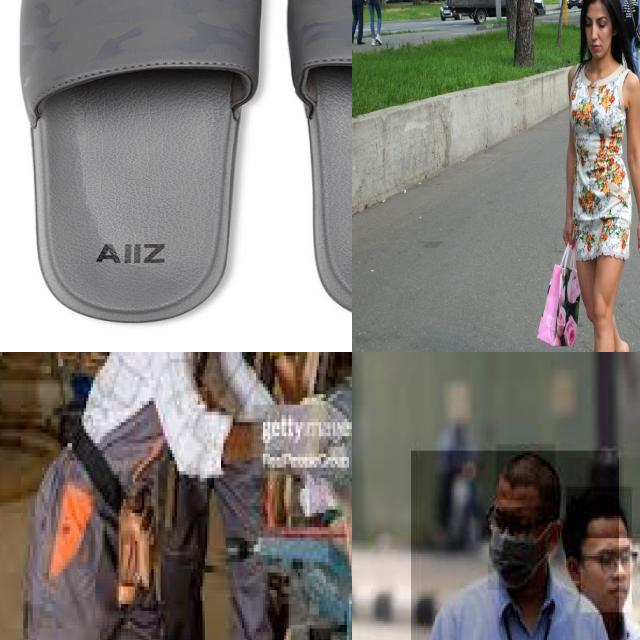Barefoots: (611, 341, 629, 352)
Sandals: (0, 0, 352, 352)
face_mask: (488, 507, 545, 590)
face_nomask: (580, 538, 632, 612)
glasses: (488, 502, 540, 543), (594, 547, 638, 574)
head_nohelmet: (496, 444, 556, 502), (566, 487, 632, 538)
person: (16, 352, 265, 640), (411, 450, 619, 640), (566, 457, 640, 640)
